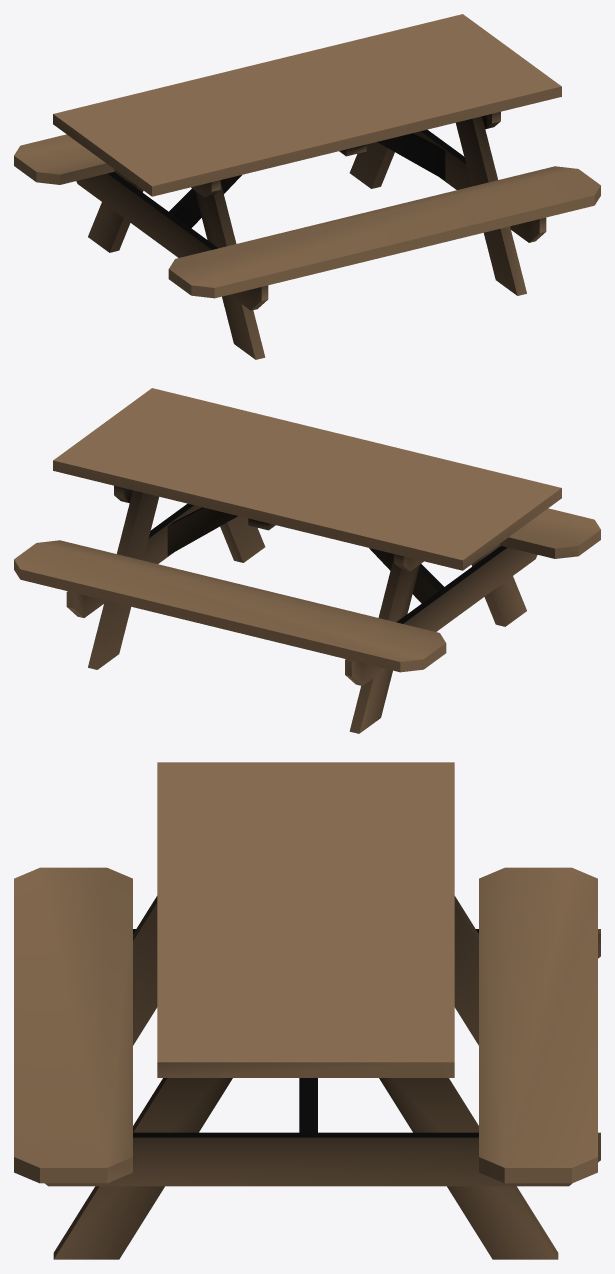
Rendered from PicnicTable(park).fbx.
The picture shows the model from 3 angles, top to bottom: view 1: azimuth 30°, elevation 25°; view 2: azimuth 150°, elevation 25°; view 3: azimuth 270°, elevation 25°; orthographic projection. The views are drawn at different scales.
Visible parts, largest first — view 1: Cube.002; view 2: Cube.002; view 3: Cube.002.
Boxes of the visible parts, left/top/right/bottom form: Cube.002: left=14, top=14, right=600, bottom=359; Cube.002: left=14, top=388, right=600, bottom=733; Cube.002: left=14, top=762, right=600, bottom=1259.
Size of the model in its own units: 172 by 66.31 by 142.
